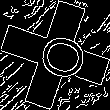O_W: (24, 26, 86, 84)
